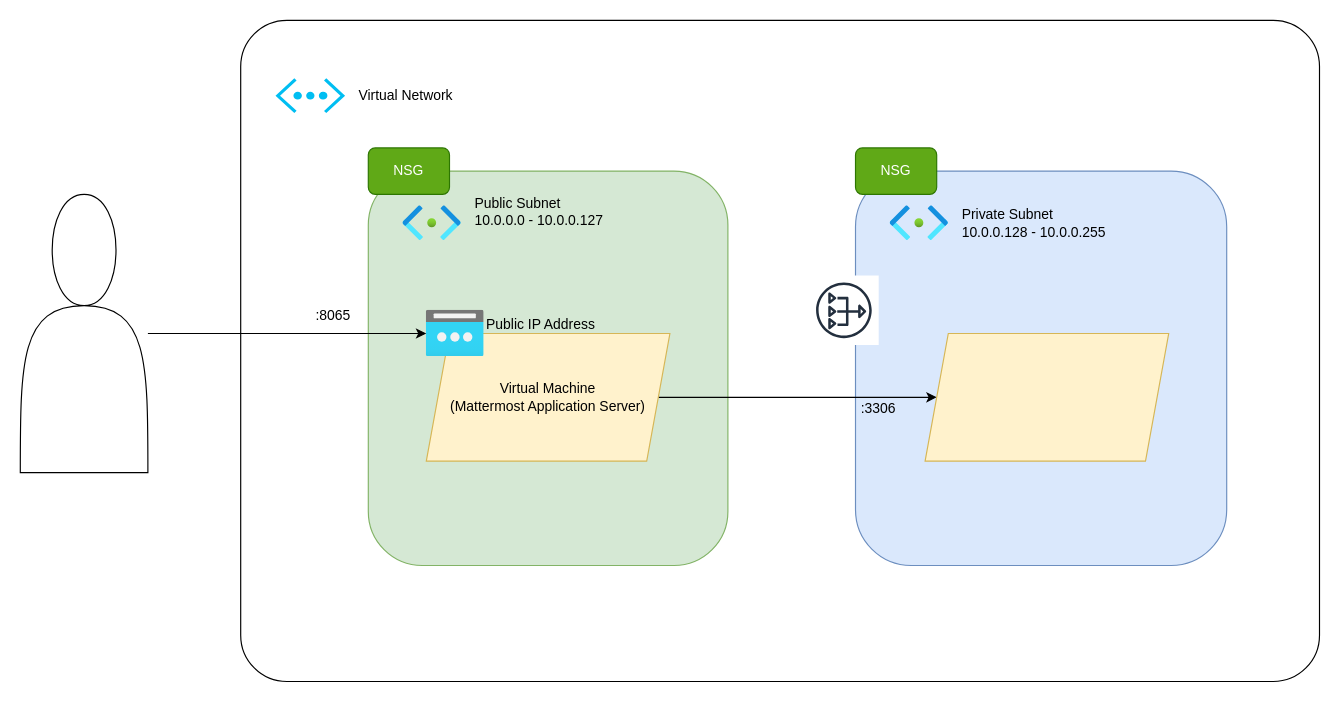
This 1340x702 diagram has some shape labels left out. The shapes that lost their labels are listed below. From the top down, each one's box as (x1, y1, x2, y2) in pixels, then its label:
(808, 274, 879, 345): NAT gateway
(924, 332, 1169, 461): Virtual Machine (MySQL DatabaseServer)
